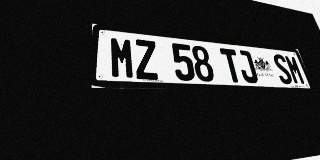5: (171, 43, 196, 81)
8: (190, 45, 215, 82)
J: (235, 50, 259, 83)
M: (109, 36, 136, 79), (284, 55, 306, 85)
S: (271, 53, 294, 84)
T: (219, 48, 244, 83)
Z: (134, 39, 160, 80)
